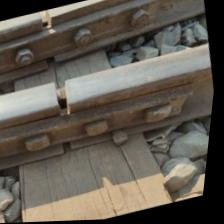person: (37, 75, 93, 123), (24, 6, 67, 42), (50, 131, 90, 164), (36, 50, 70, 76)
